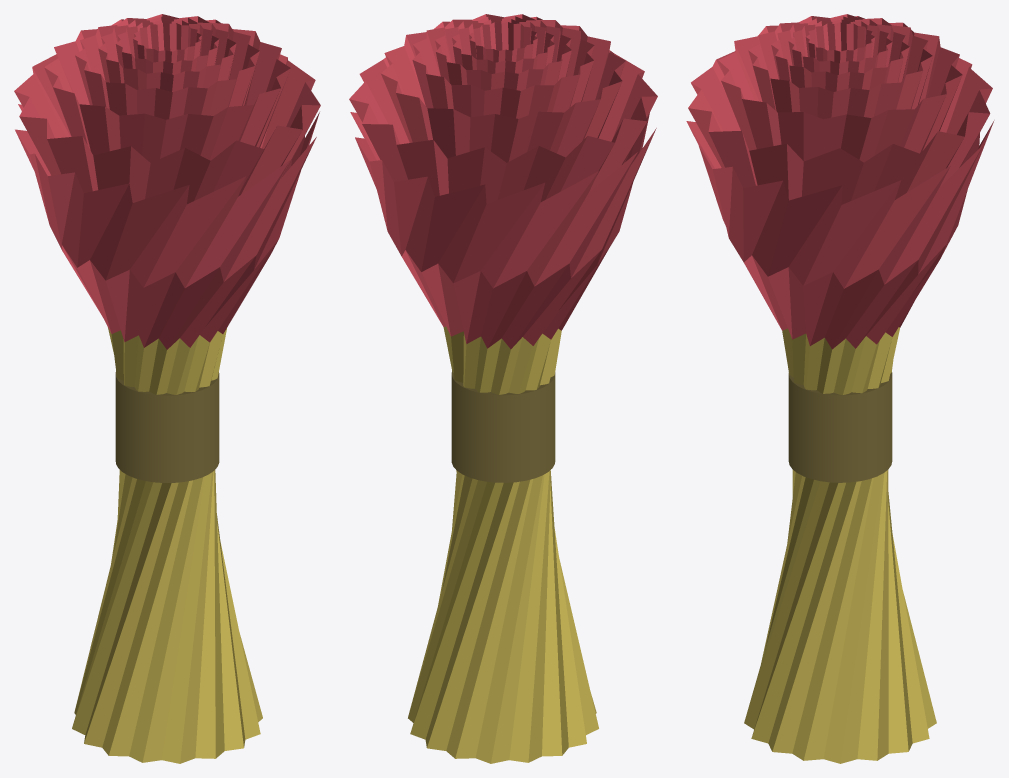
Rendered from quinoa.fbx.
The picture shows the model from 3 angles, left to right: view 1: azimuth 30°, elevation 25°; view 2: azimuth 150°, elevation 25°; view 3: azimuth 270°, elevation 25°; orthographic projection.
Parts seen in each view (by area): view 1: quinoa; view 2: quinoa; view 3: quinoa.
Boxes of the visible parts, left/top/right/bottom form: quinoa: left=14, top=14, right=320, bottom=763; quinoa: left=349, top=14, right=657, bottom=763; quinoa: left=686, top=14, right=994, bottom=763.
Bounding box in the file's own units: 320 × 785 × 320.
